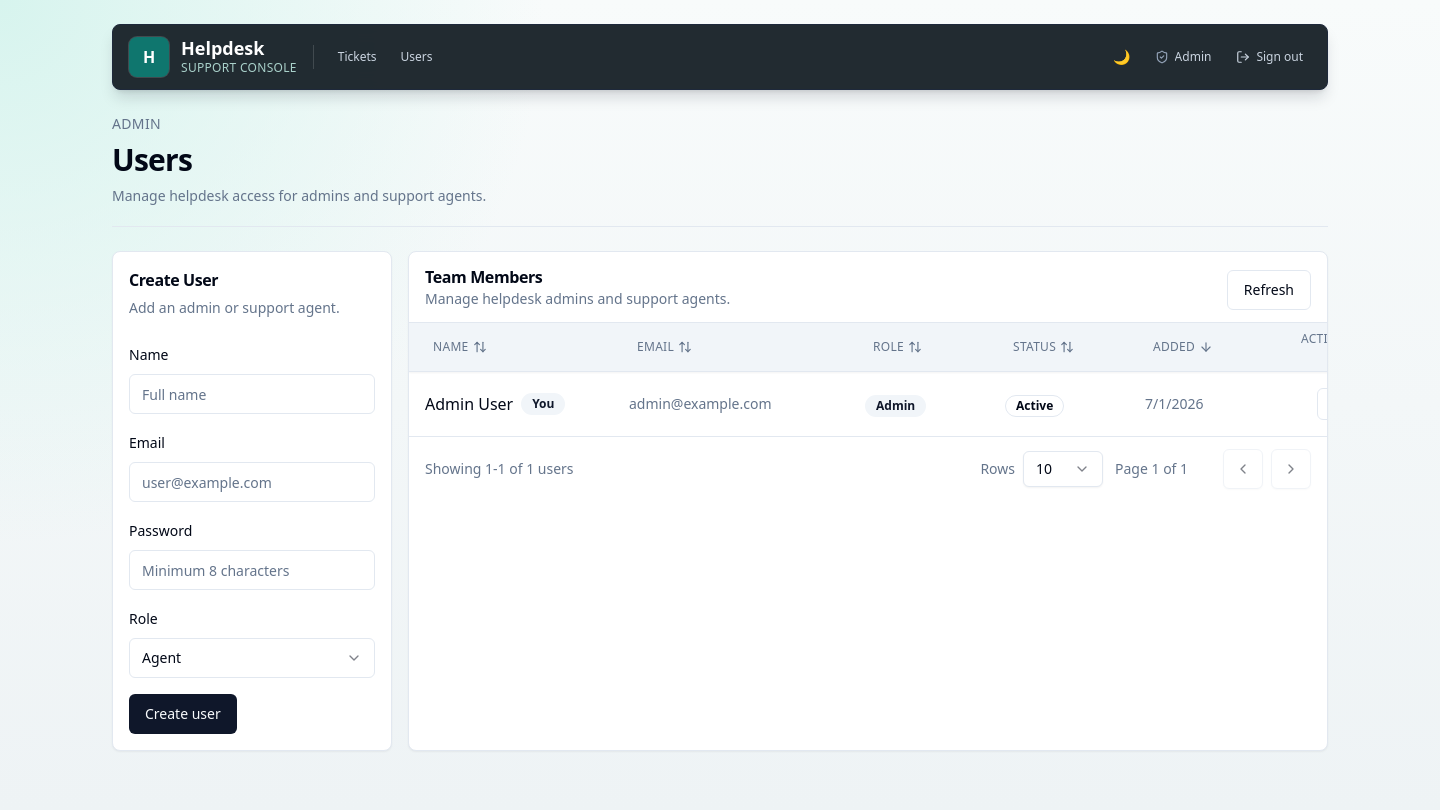
Test case: Users page › marks email as invalid when the API returns an email field error
Expected: the text "admin@example.com" is shown, [629,394,772,413]
Type "Existing User" into the field labelled "Name" at (252, 394), box [129,374,375,414]
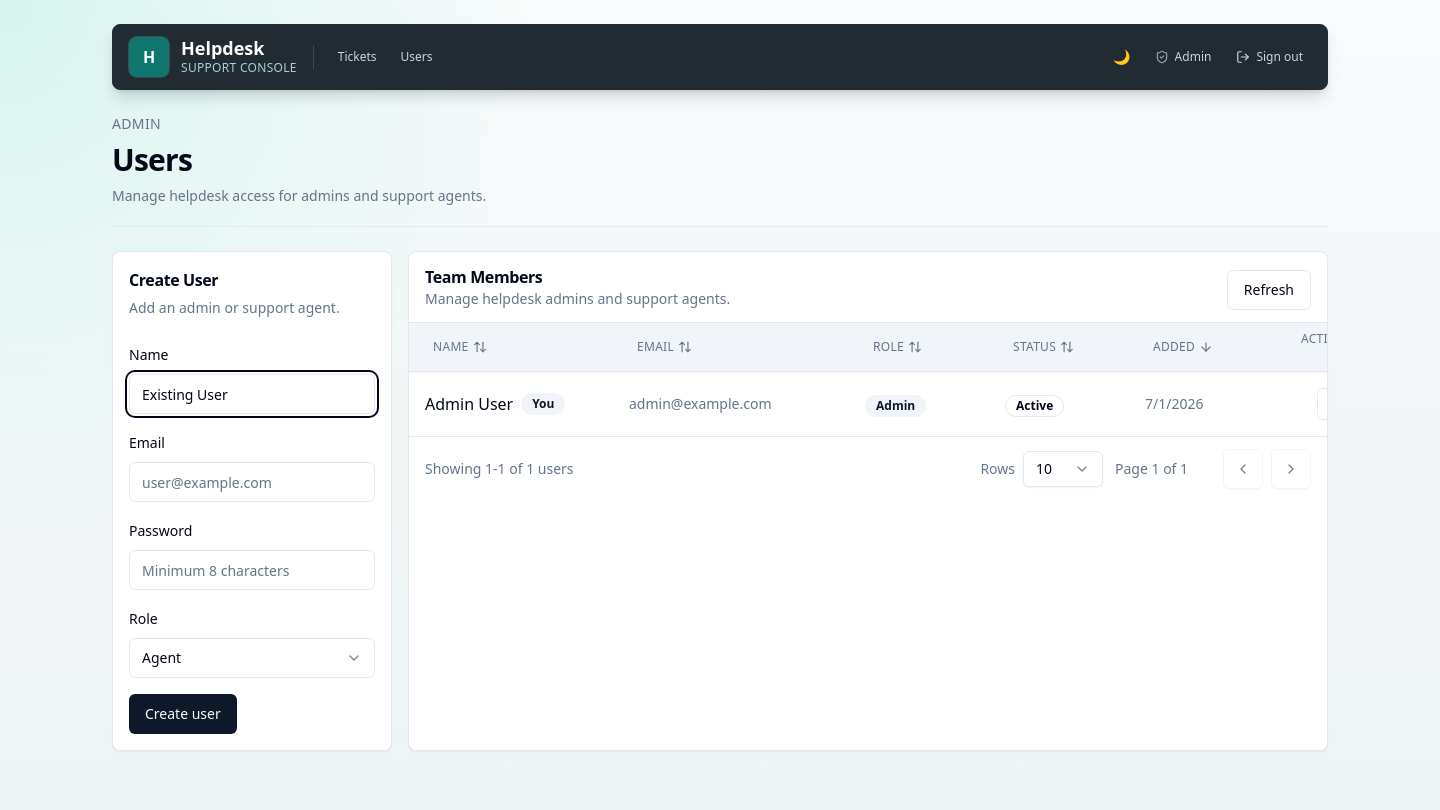
Type "agent@example.com" into the field labelled "Email" at (252, 482), box [129,462,375,502]
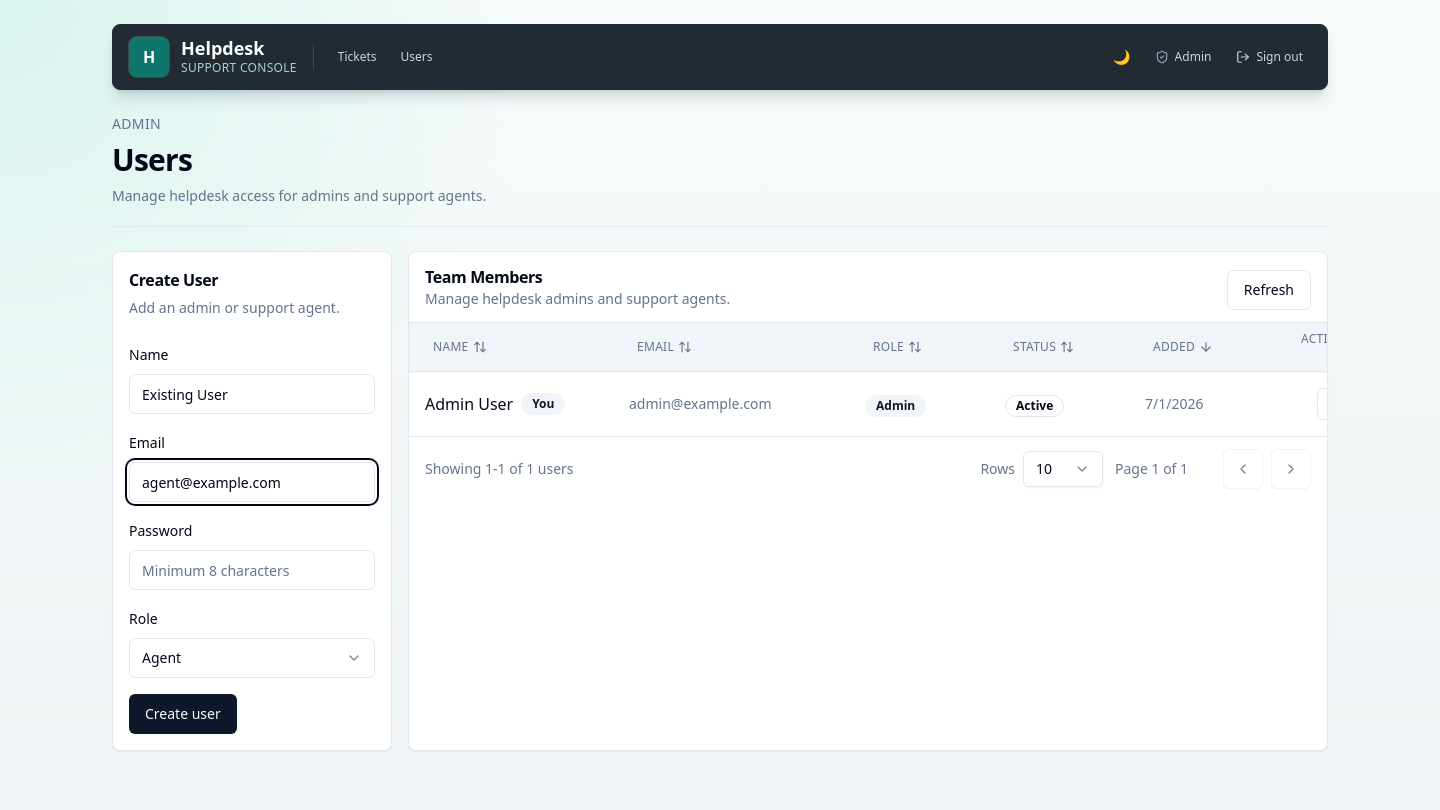
Type "password@123" into the password field labelled "Password" at (252, 570), box [129,550,375,590]
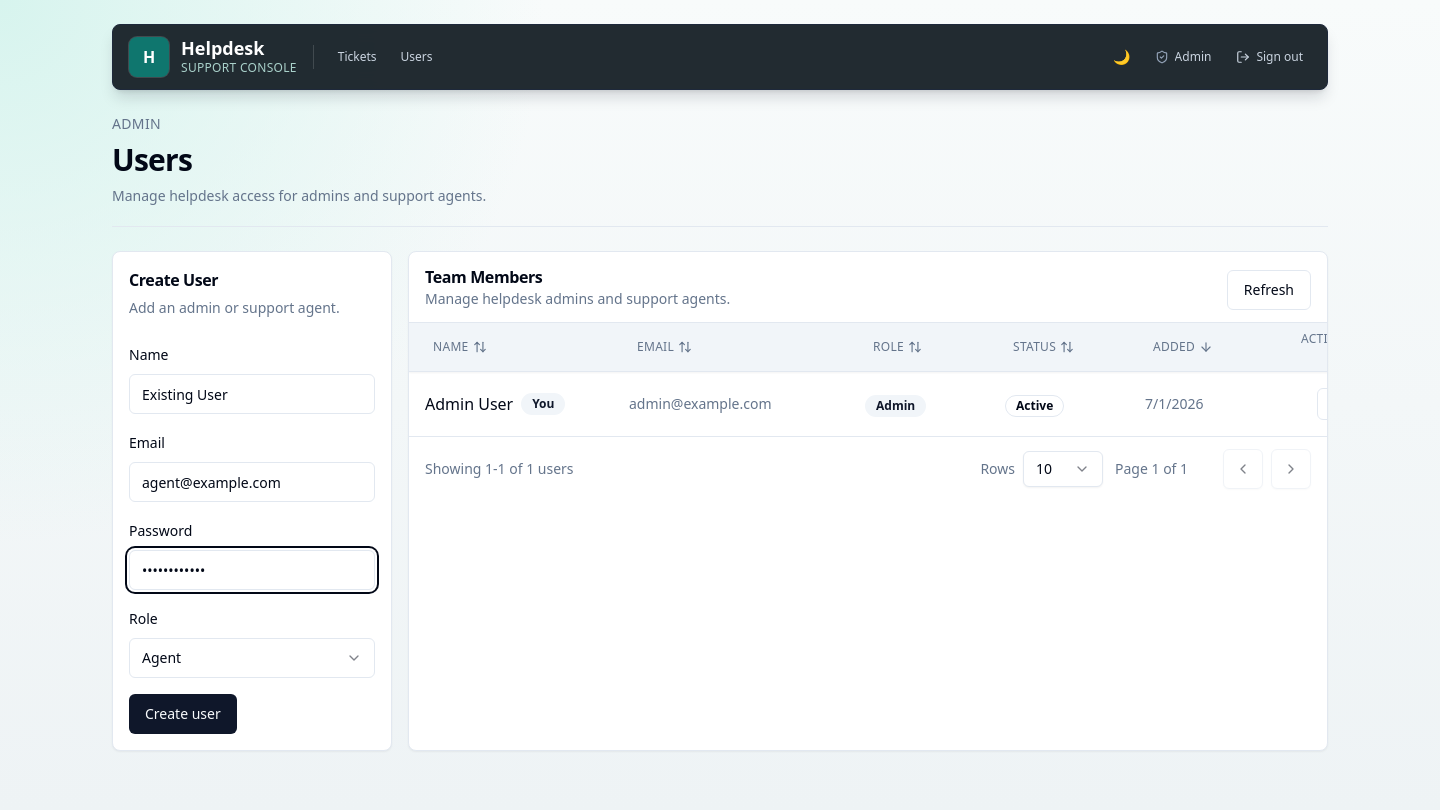
Click the button "Create user" at (183, 714), box [129,694,237,734]
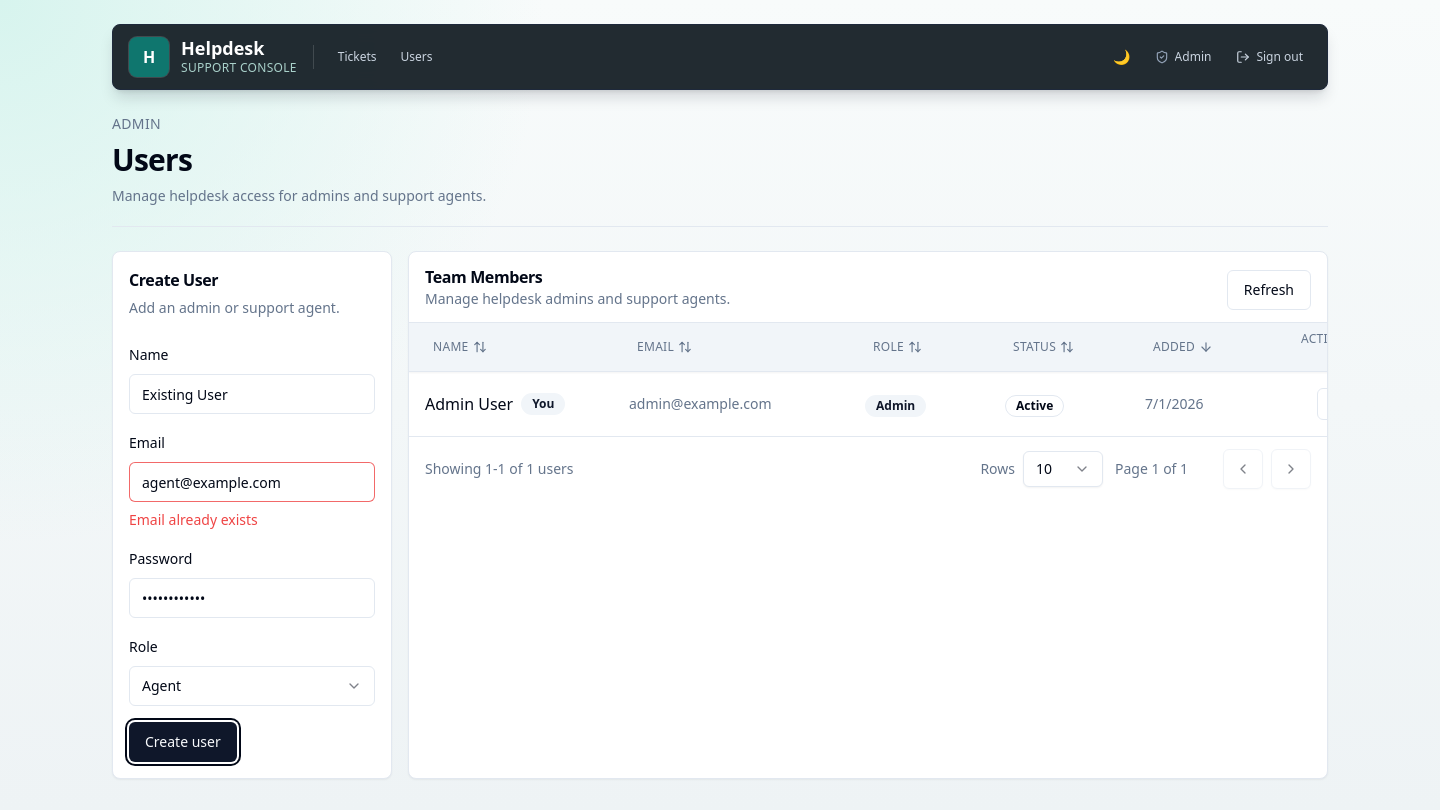
Expected: the text "Email already exists" is shown, [129,510,258,529]
